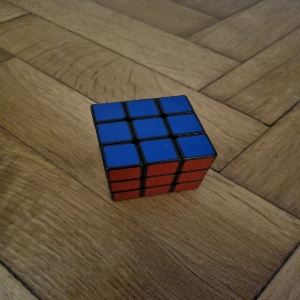cube: (91, 95, 218, 202)
